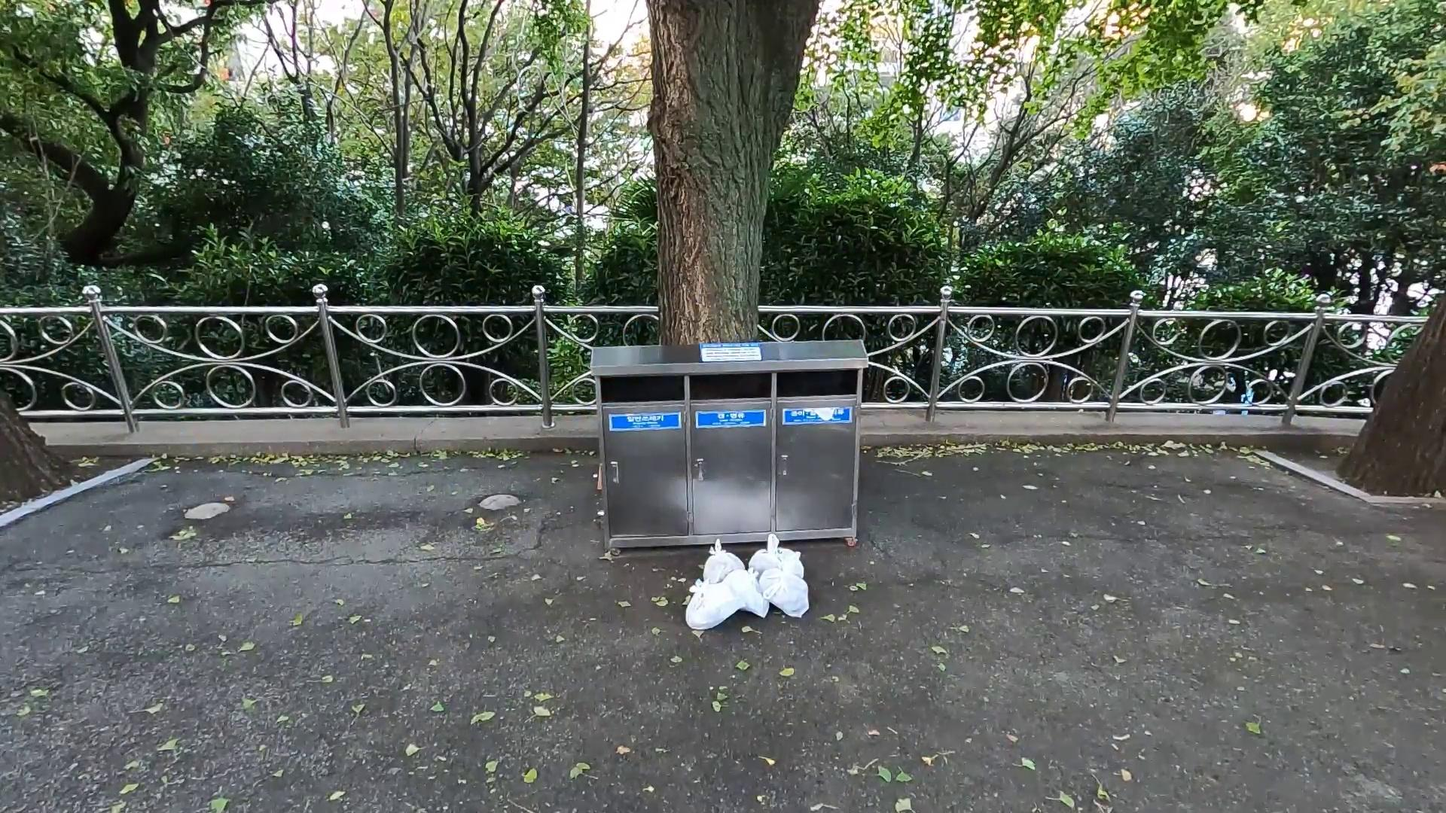trash: (762, 560, 818, 633), (747, 535, 813, 592), (680, 576, 746, 629), (698, 538, 751, 599), (718, 561, 772, 619)
